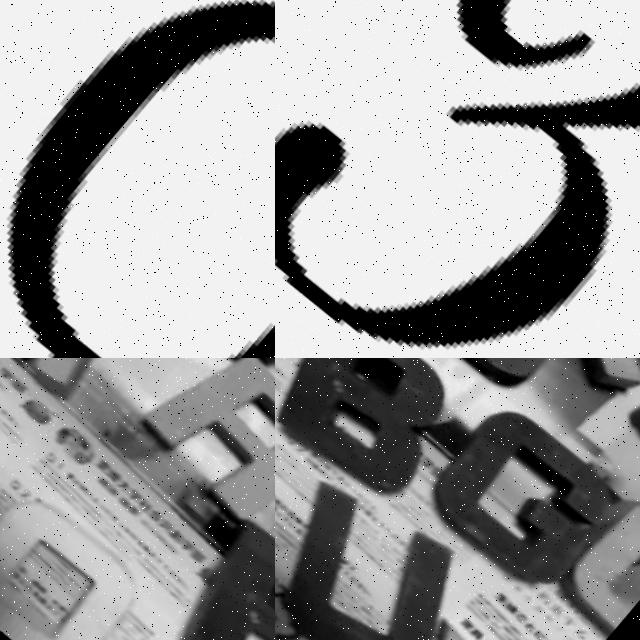3: (275, 0, 640, 358)
B: (275, 358, 476, 512), (165, 513, 275, 640)
D: (393, 358, 608, 408)
G: (423, 396, 640, 607)
Q: (0, 0, 275, 358)
R: (134, 358, 275, 543)
U: (275, 458, 509, 640)
X: (341, 597, 561, 640)
Y: (0, 358, 179, 422)
